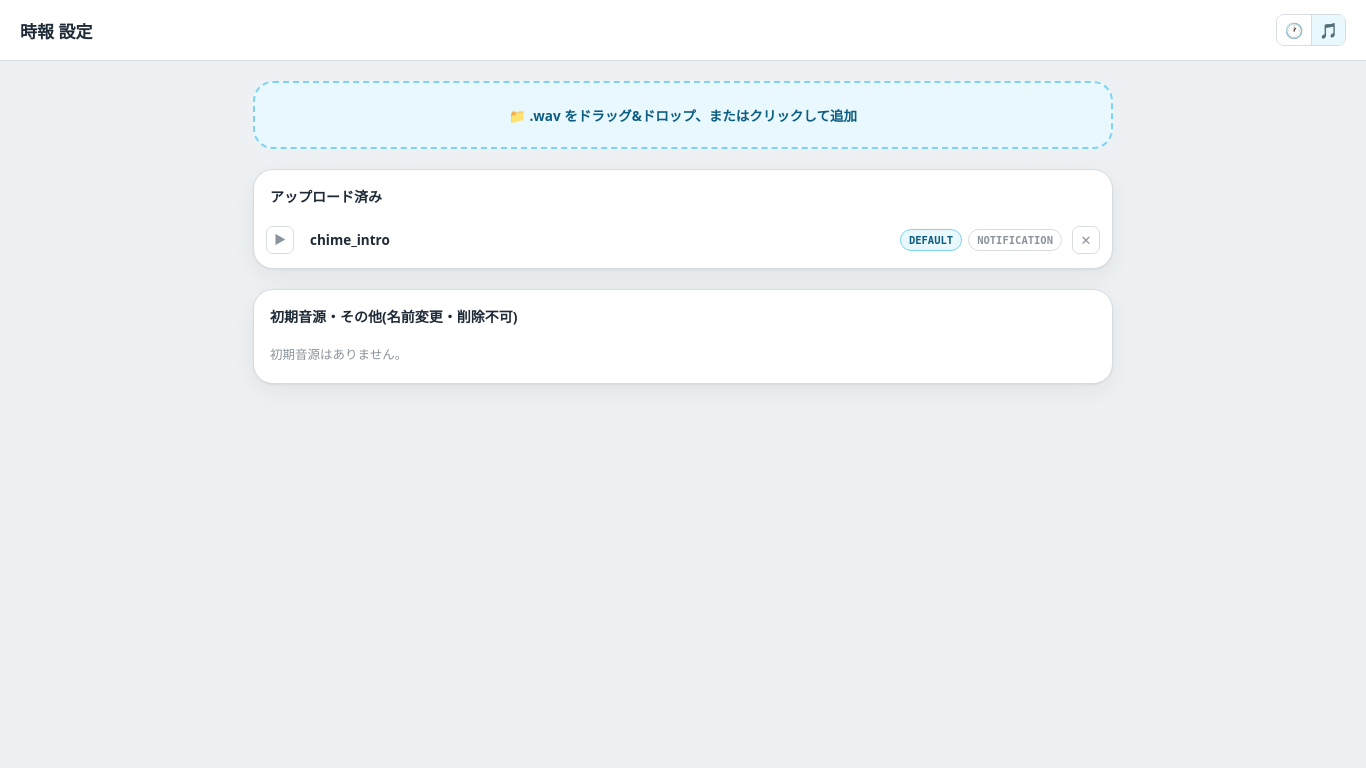
Scenario: 楽曲管理画面 › 削除は確認ダイアログを経てから実行され、成功すると一覧から消える
Check: the button "chime_intro" is shown, box [304,227,890,253]
Click the button named "chime_intro を削除".
click(1086, 240)  # box [1072,226,1100,254]
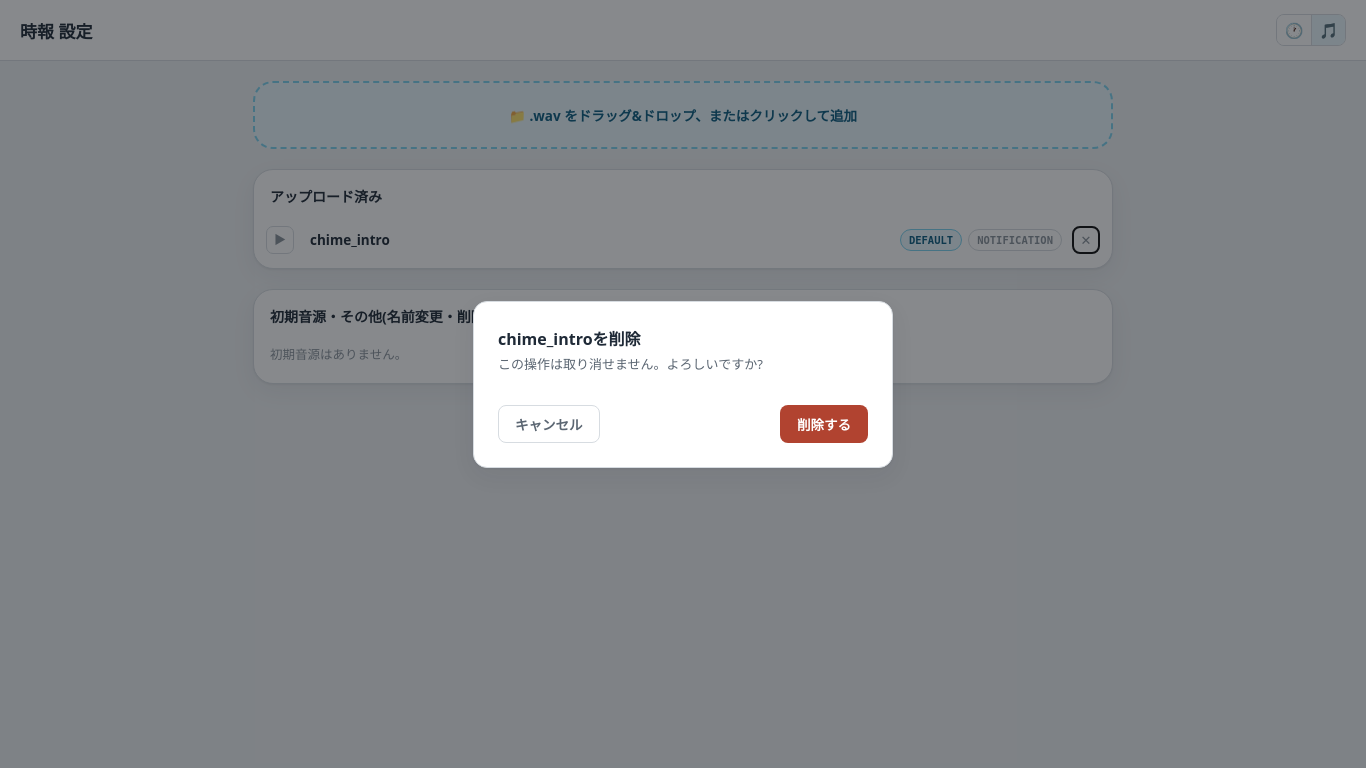
Check: the text "この操作は取り消せません。よろしいですか?" is shown, box [498,354,763,372]
Click the button "削除する".
click(824, 424)  # box [780,404,868,442]
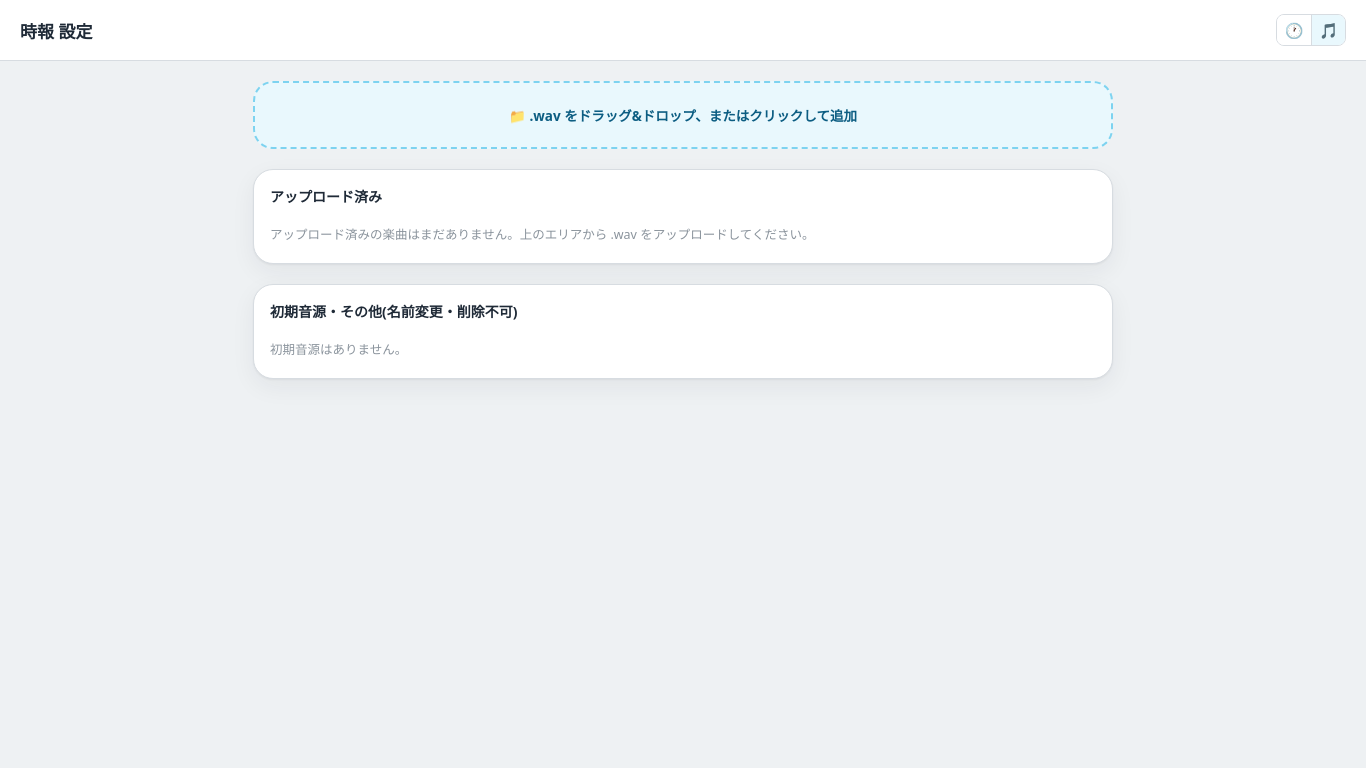
Check: the button "chime_intro" is gone
